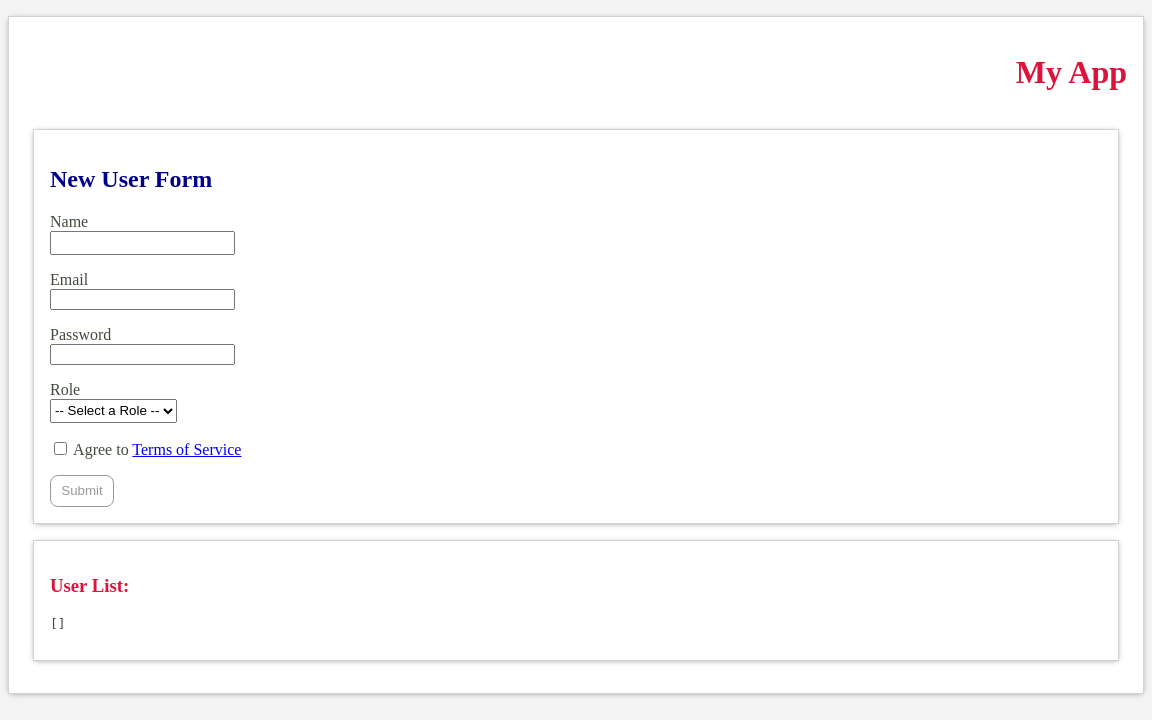
Test: New User Form Tests › Check for Form Validation Errors
Type 1 character into Name input
Type "a" into the field with test id "name" at [143, 243], box [50,231,235,255]
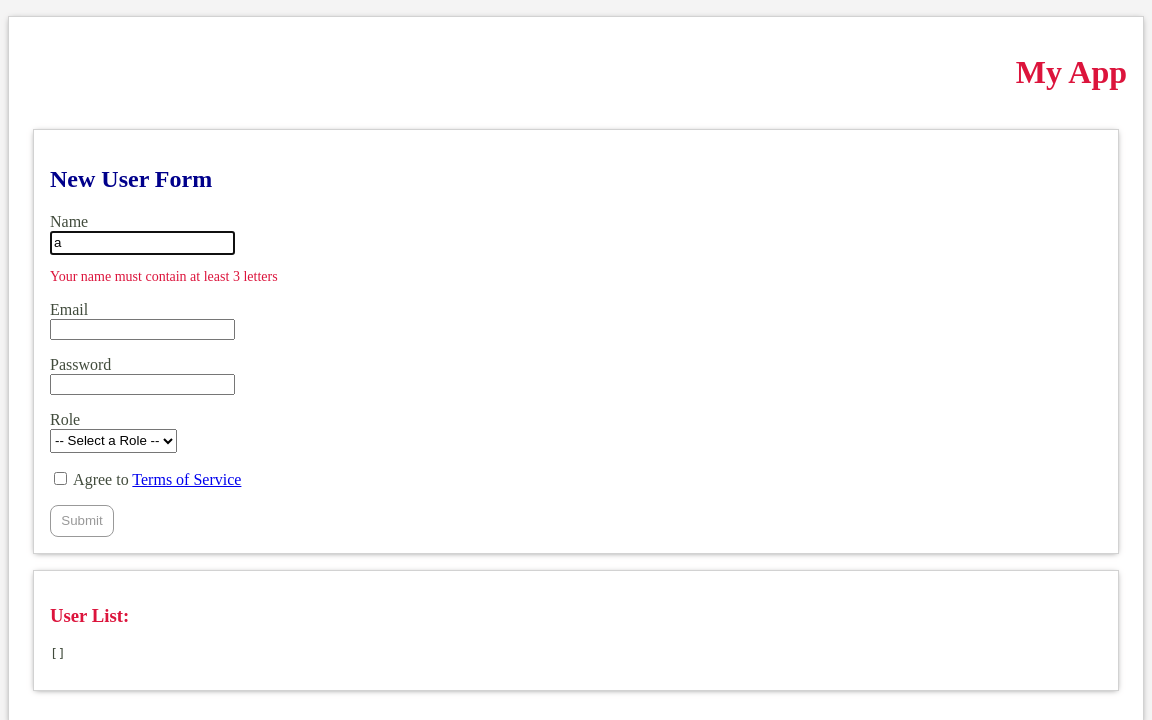
expect the text with class "error" reads "Your name must contain at least 3 letters": met, box [50,269,278,284]
Type another character into Name input
Type "b" into the field with test id "name" at [143, 243], box [50,231,235,255]
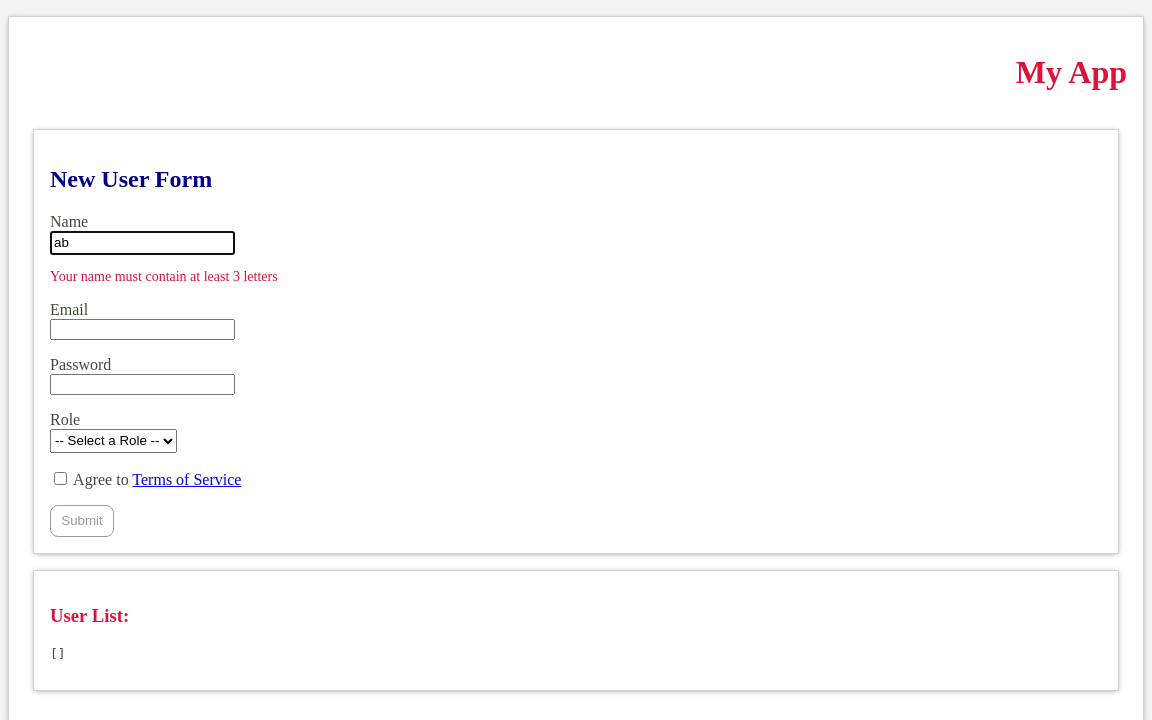
expect the text with class "error" reads "Your name must contain at least 3 letters": met, box [50,269,278,284]
expect the field with test id "name" holds "ab": met
Type another character into Name input
Type "c" into the field with test id "name" at [143, 243], box [50,231,235,255]
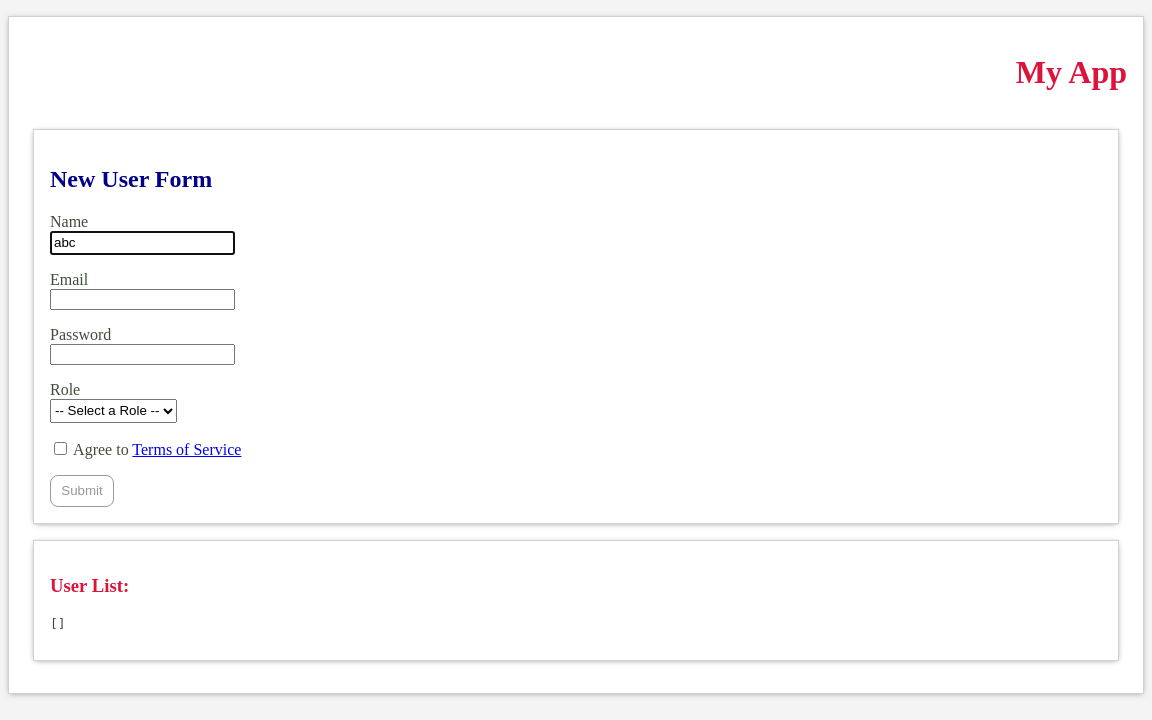
expect the field with test id "name" holds "abc": met, box [50,231,235,255]
expect the text with class "error" is gone: met
